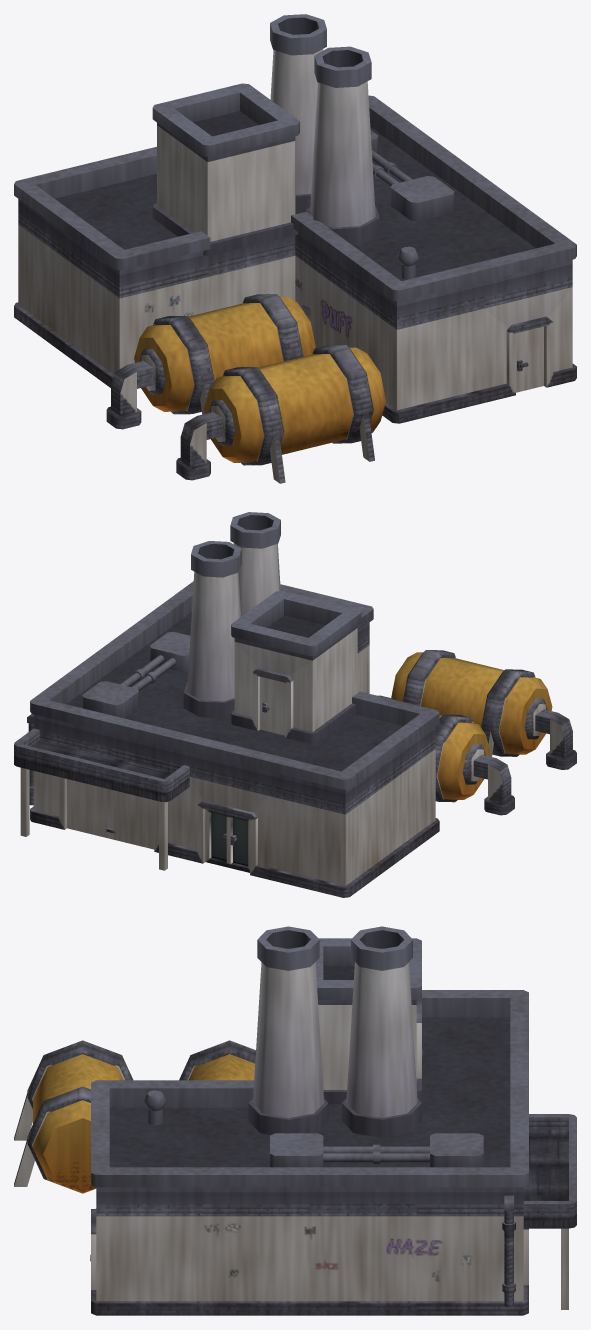
Rendered from building-c-white-scuffed.glb.
The picture shows the model from 3 angles, top to bottom: view 1: azimuth 30°, elevation 25°; view 2: azimuth 150°, elevation 25°; view 3: azimuth 270°, elevation 25°; orthographic projection. The views are drawn at different scales.
Parts seen in each view (by area): view 1: building-c; view 2: building-c; view 3: building-c.
Boxes of the visible parts, x1,y1,x2,y2 form: building-c: (14, 14, 576, 483); building-c: (14, 512, 576, 897); building-c: (14, 926, 576, 1315).
Size of the model in its own units: 1.88 by 1.25 by 2.11.
1 material, 1 textured.
